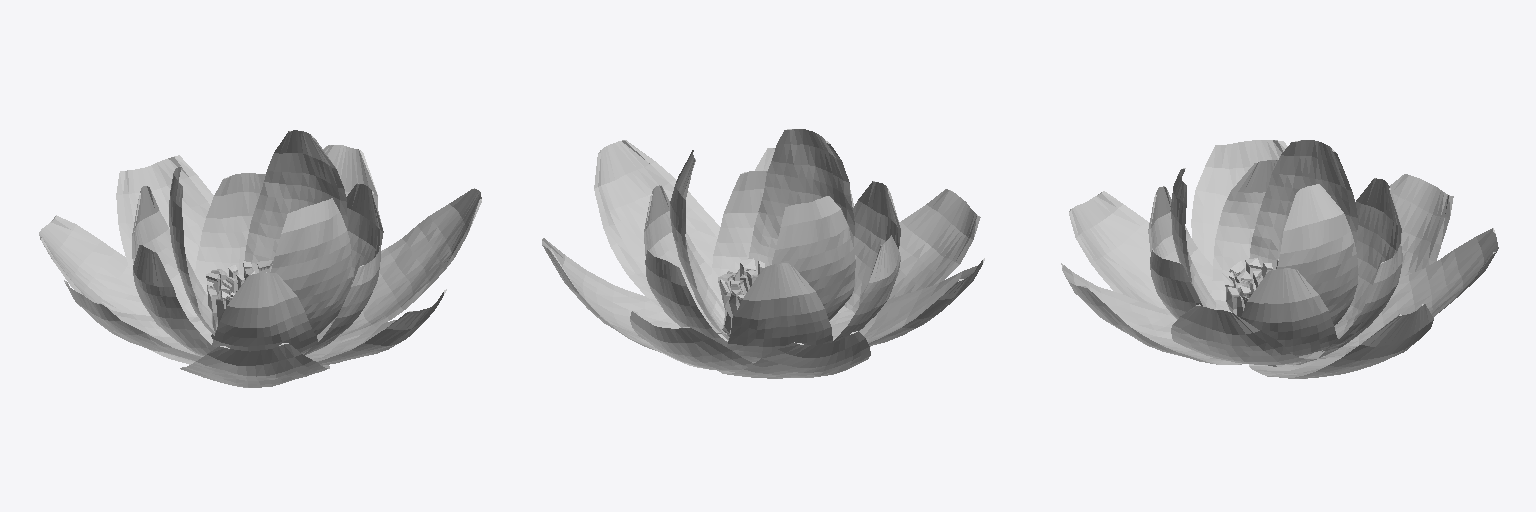
The model's file is leaves.obj.
The picture shows the model from 3 angles: view 1: azimuth 30°, elevation 25°; view 2: azimuth 150°, elevation 25°; view 3: azimuth 270°, elevation 25°; orthographic projection.
Parts seen in each view (by area): view 1: flower_high:lotu_petal_12; view 2: flower_high:lotu_petal_12; view 3: flower_high:lotu_petal_12.
Part boxes in pixels (bbox=[...]): flower_high:lotu_petal_12: bbox=[39, 130, 481, 387]; flower_high:lotu_petal_12: bbox=[542, 129, 984, 378]; flower_high:lotu_petal_12: bbox=[1061, 140, 1498, 378].
Size of the model in its own units: 1.6 by 0.7874 by 1.57.